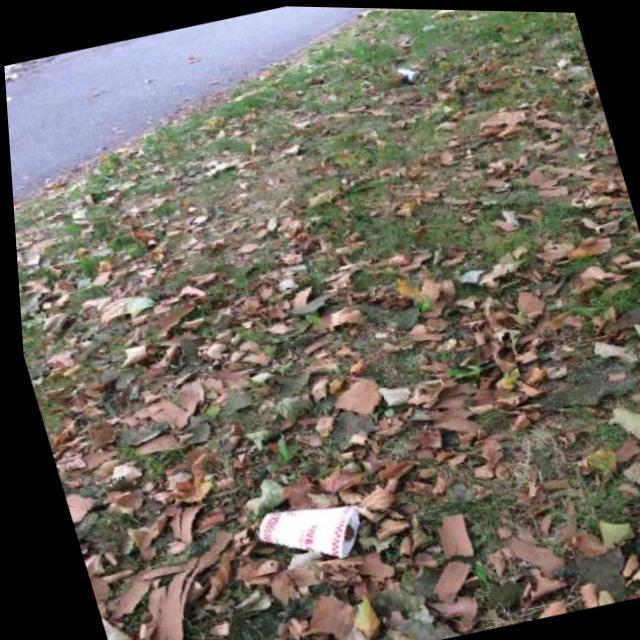cardboard: (248, 490, 376, 577)
